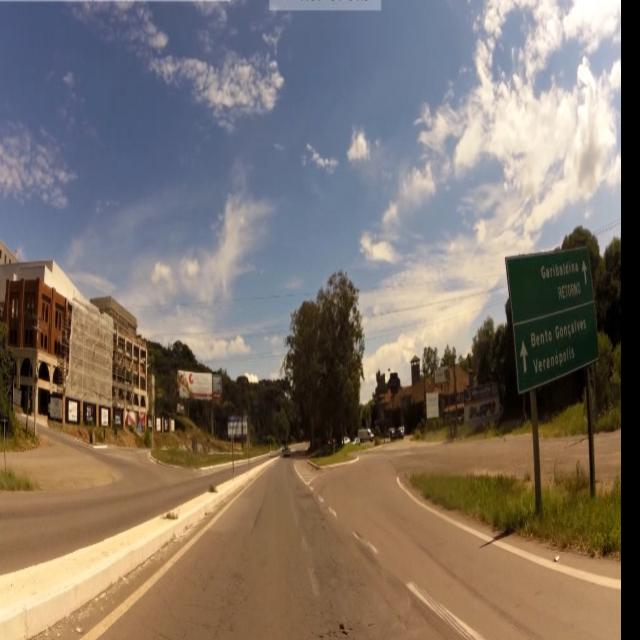I-4: (502, 248, 608, 392)
